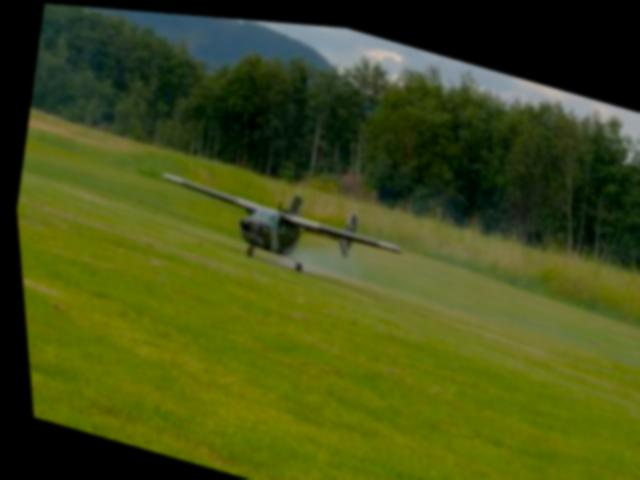uav: (146, 151, 411, 295)
